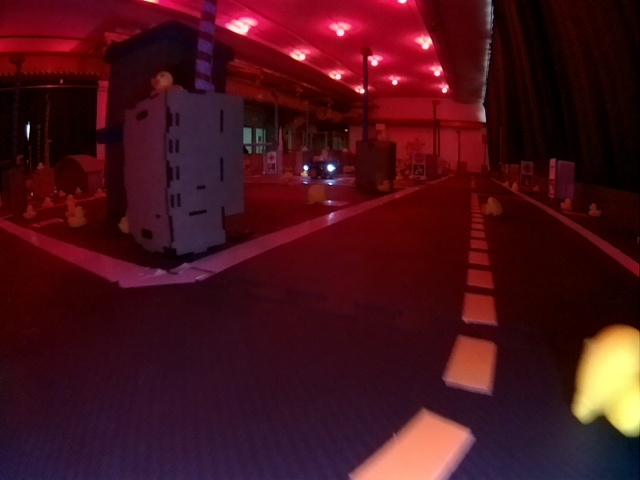Duckie: (572, 325, 638, 413), (150, 72, 179, 94), (68, 207, 86, 227), (482, 197, 500, 215), (307, 185, 326, 202), (588, 203, 602, 216), (23, 205, 36, 218), (560, 199, 570, 208)
Duckiebot: (304, 161, 338, 178)
